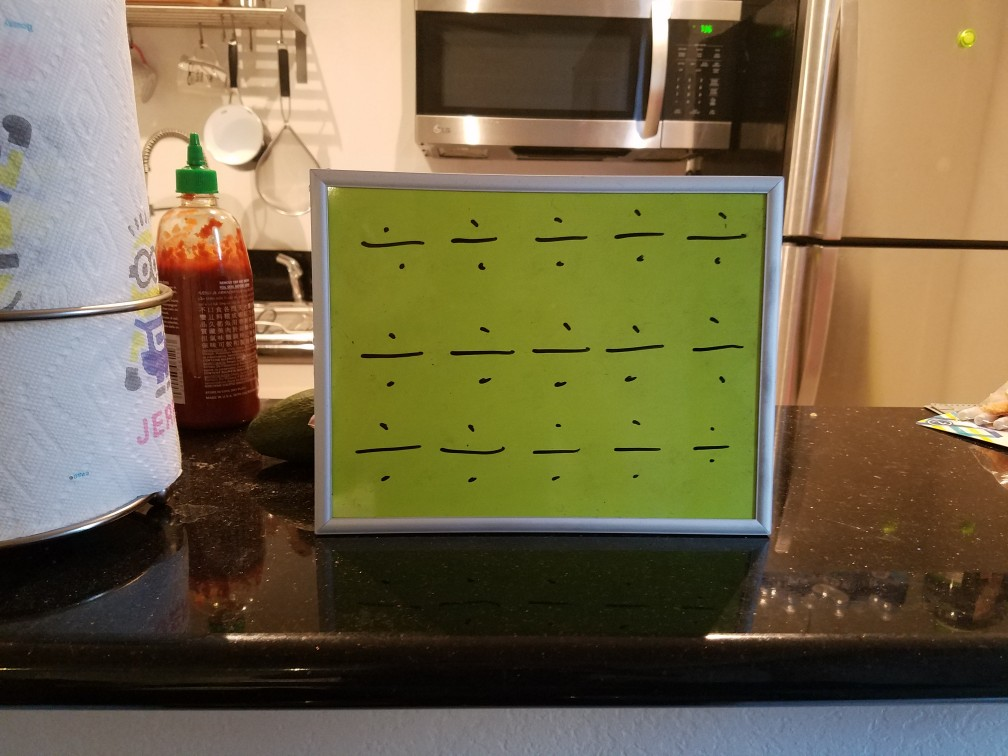div: (680, 300, 756, 393), (599, 407, 675, 495), (434, 316, 518, 395), (517, 411, 594, 497), (436, 407, 507, 493), (522, 316, 595, 397), (679, 200, 752, 280), (604, 198, 674, 277), (354, 321, 424, 400), (604, 317, 676, 393), (521, 206, 593, 279), (354, 217, 435, 280), (358, 410, 418, 488), (445, 207, 501, 275), (683, 416, 736, 474)
